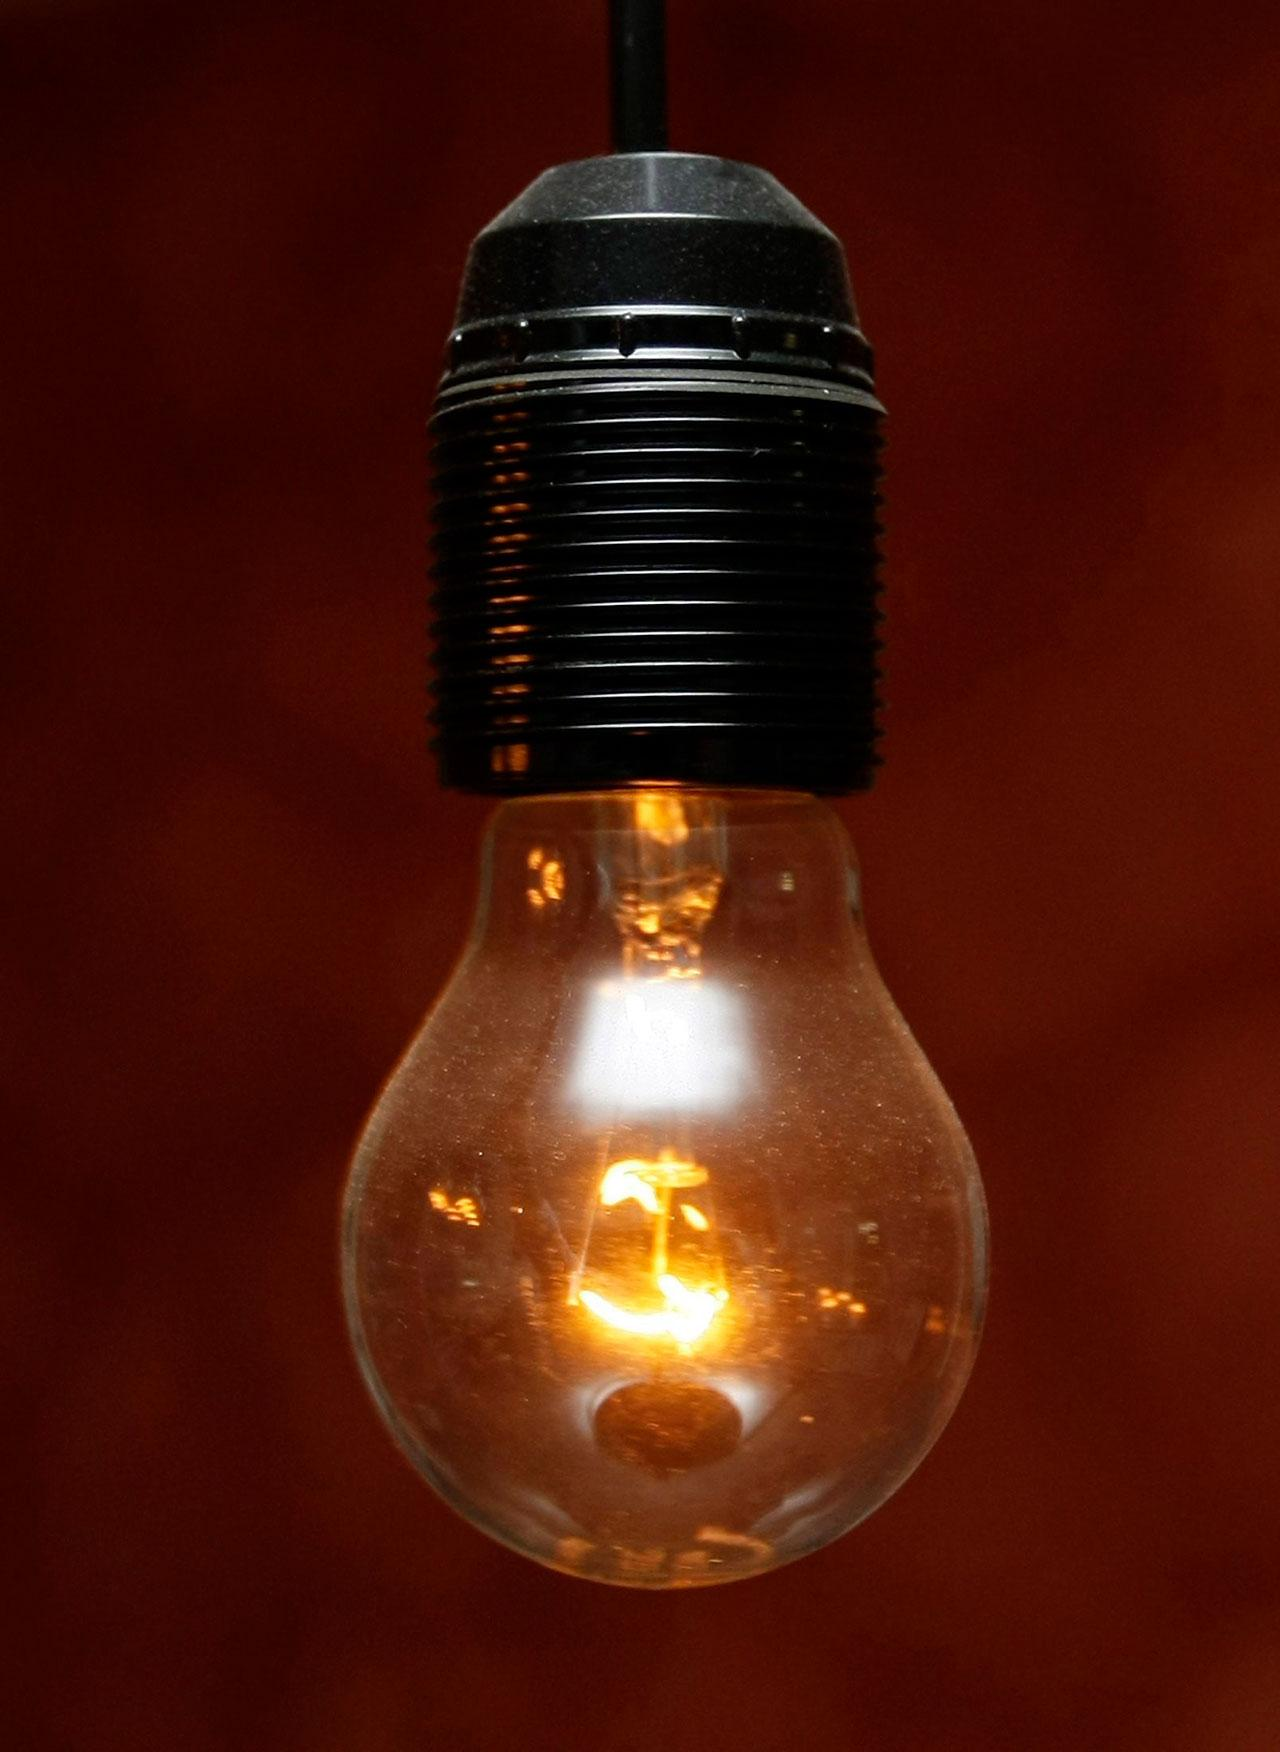Light_bulb: (307, 779, 1022, 1621)
